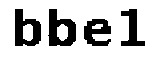1: (118, 7, 147, 50)
b: (44, 5, 78, 50), (11, 7, 42, 52)
e: (79, 15, 113, 53)
